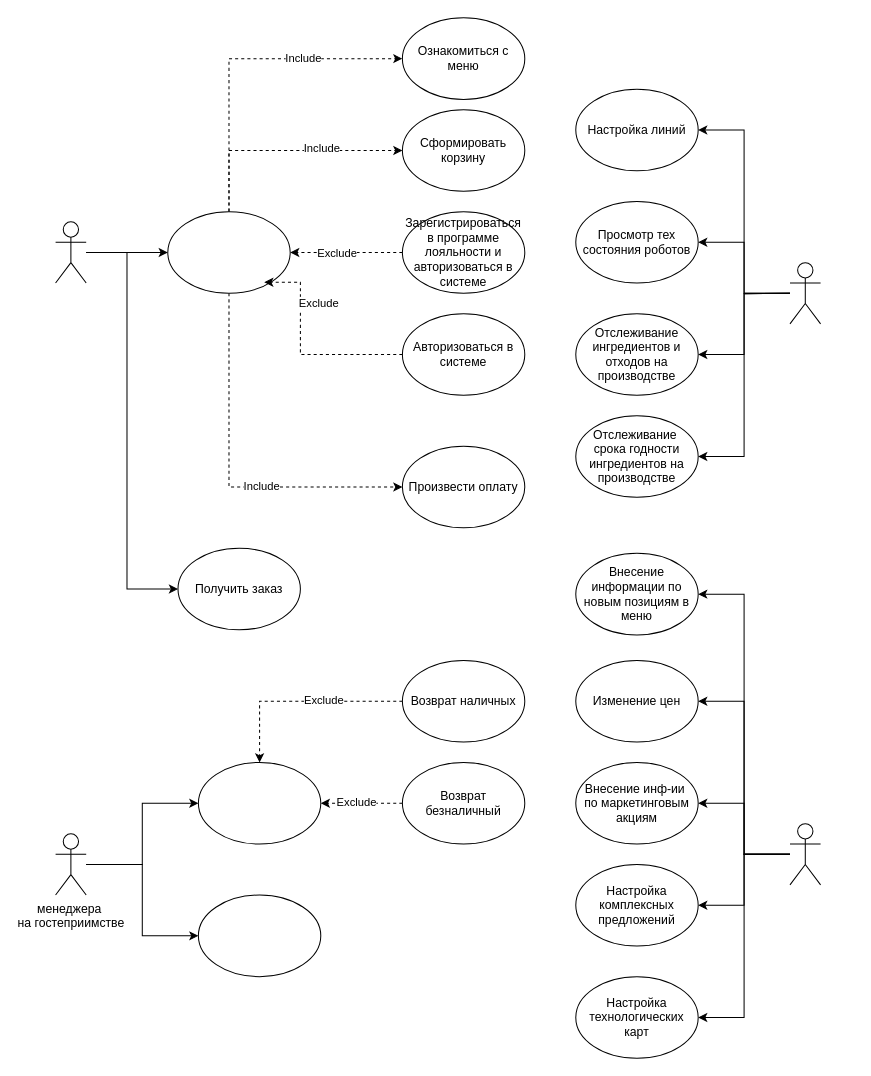
Image size: 871x1076. Some labels were removed from this diagram. The centre of each missing label's shape, as x and y in pixels:
"Менеджер по ассортименту" goes at (x=805, y=854).
"Отслеживание информации о сбоях и ошибках" goes at (x=259, y=935).
"Оформить заказ" goes at (x=228, y=252).
"Оформить отказ от покупки" goes at (x=259, y=802).
"Посетитель" goes at (x=70, y=252).
"Работник производства" goes at (x=805, y=293).
